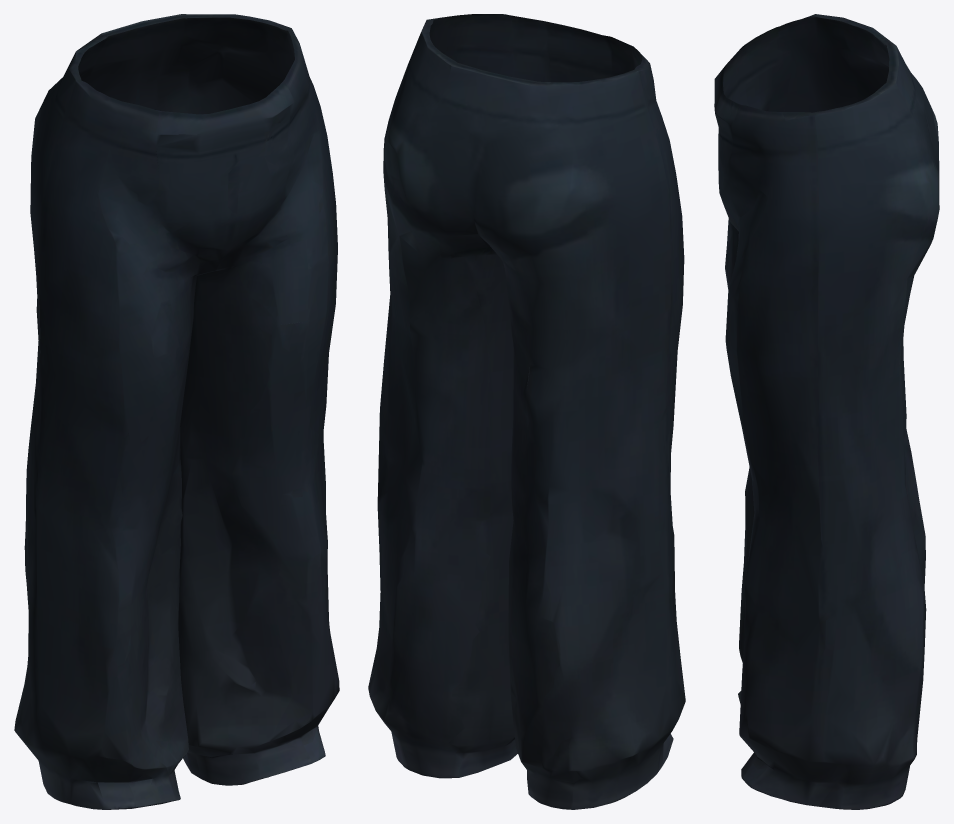
Rendered from mage_f_trousers.glb.
3 views of the same model, side by side, from view 1: azimuth 30°, elevation 25°; view 2: azimuth 150°, elevation 25°; view 3: azimuth 270°, elevation 25° (orthographic). The views are drawn at different scales.
Visible parts, largest first — view 1: world; view 2: world; view 3: world.
Part boxes in pixels (x1=…): world: x1=14, y1=14, x2=339, y2=809; world: x1=368, y1=14, x2=685, y2=809; world: x1=714, y1=14, x2=939, y2=809.
Size of the model in its own units: 0.3887 by 0.9299 by 0.272.
1 material, 1 textured.
